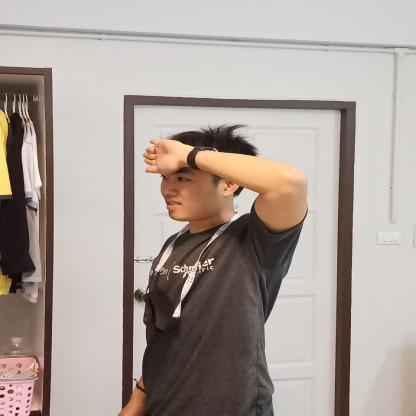Sick: (128, 136, 316, 223)
